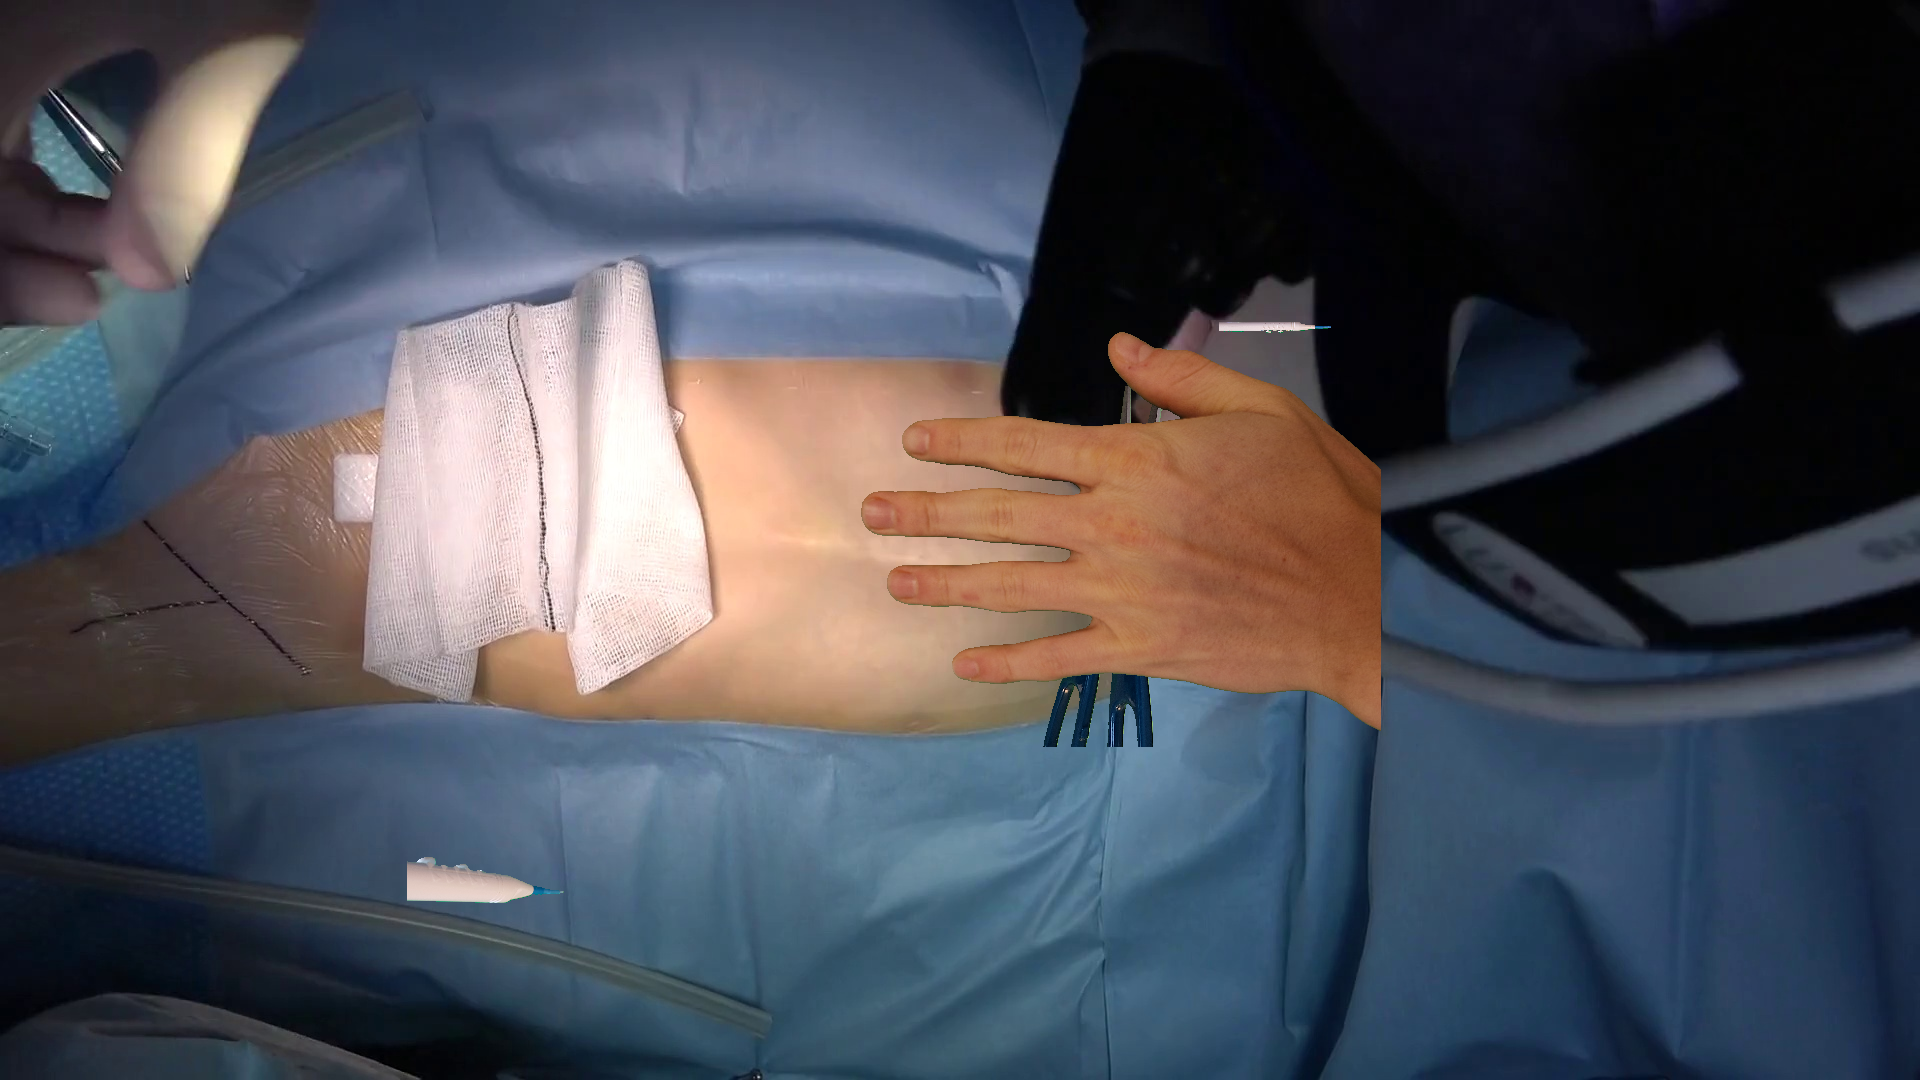diathermy: (407, 857, 563, 902), (1218, 322, 1331, 332)
scissors: (1043, 386, 1160, 746)
